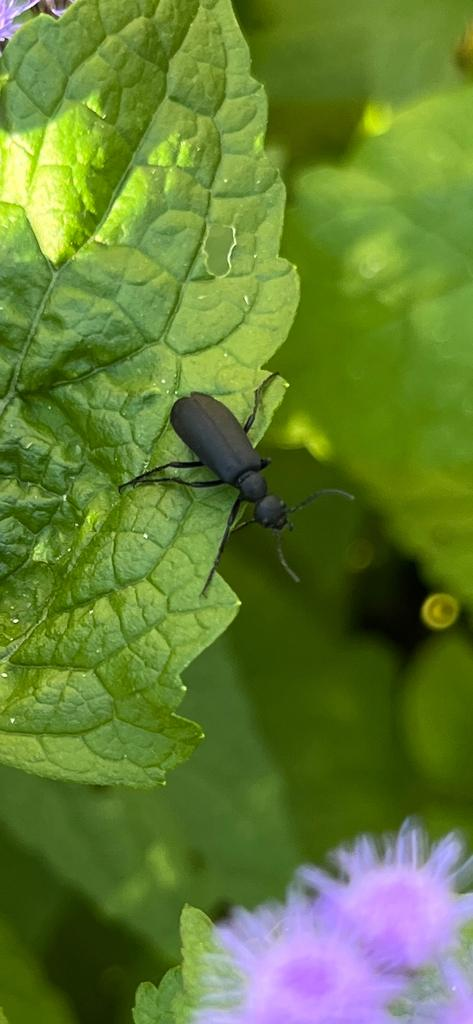blister_beetle: (94, 345, 379, 614)
